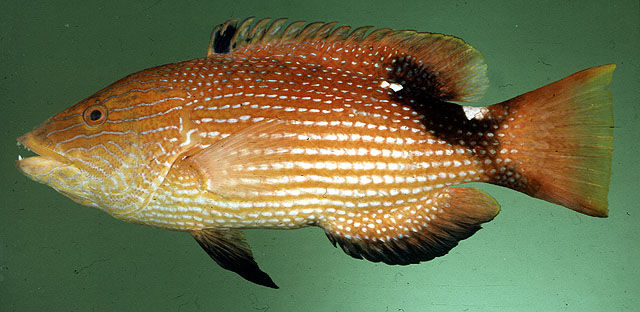fish: (15, 17, 618, 290)
